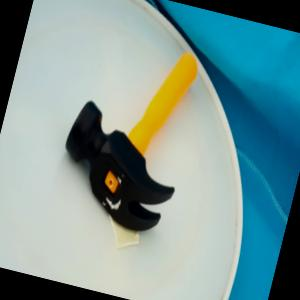martelo: (49, 28, 208, 237)
